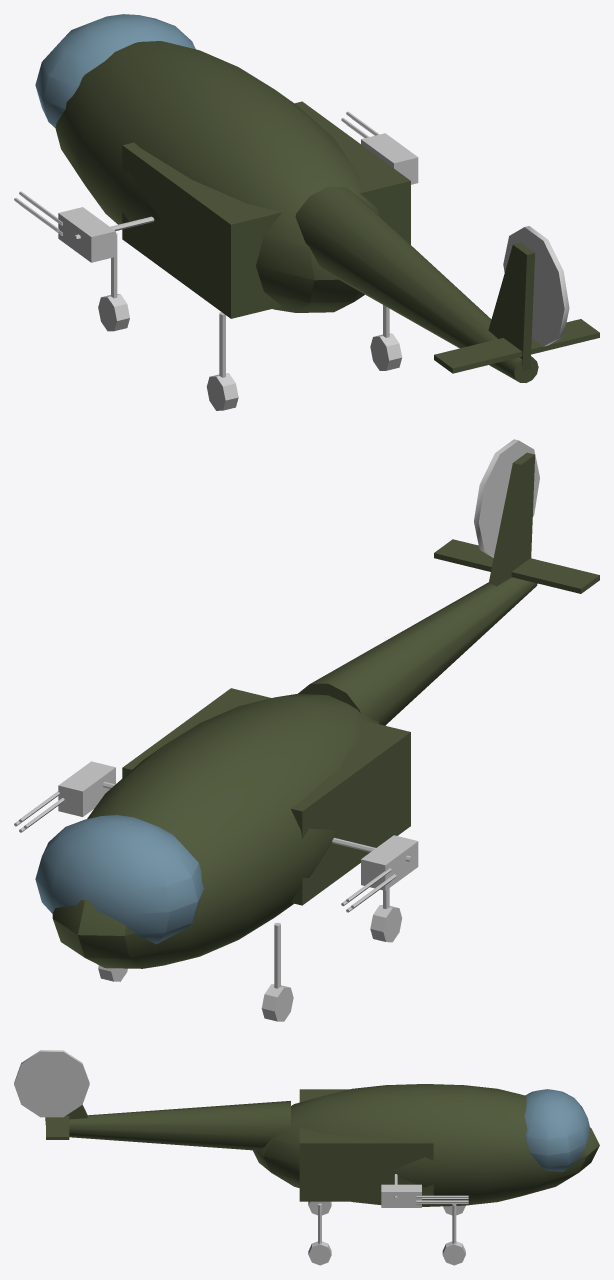
Rendered from z20_lakota_miniguns.obj.
3 renders of one model, top to bottom at view 1: azimuth 30°, elevation 25°; view 2: azimuth 150°, elevation 25°; view 3: azimuth 270°, elevation 25°, orthographic. The views are drawn at different scales.
Visible parts, largest first — view 1: model; view 2: model; view 3: model.
Boxes of the visible parts, x1,y1,x2,y2 form: model: [14, 14, 599, 410]; model: [14, 439, 599, 1021]; model: [14, 1050, 599, 1265].
Size of the model in its own units: 4.16 by 3.64 by 10.05.
